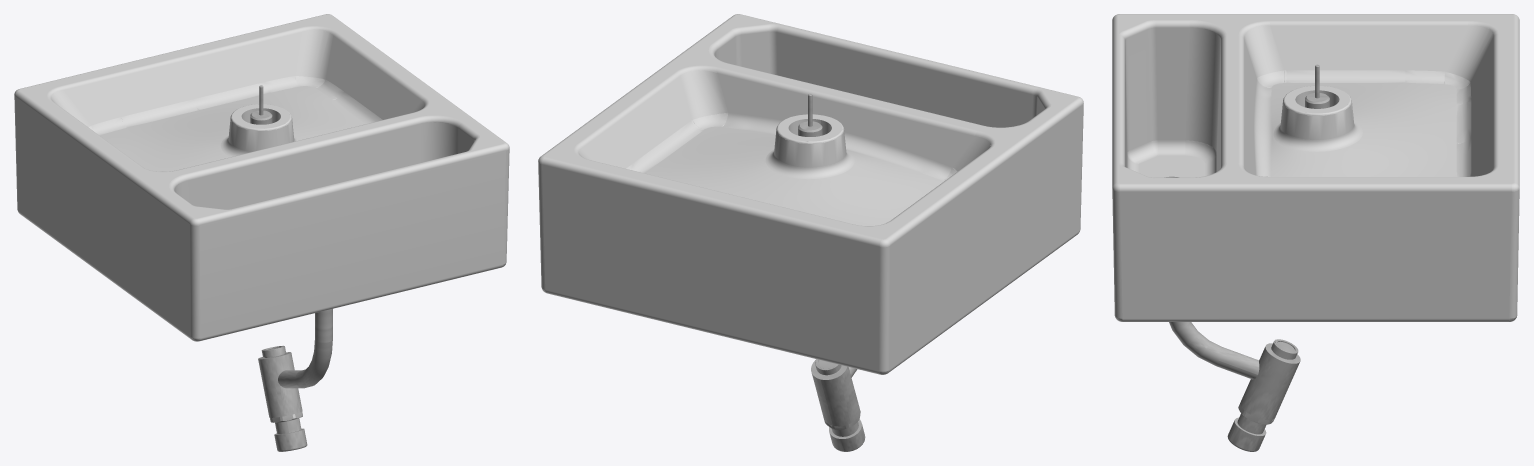
Rendered from PiaBanheiro.fbx.
3 views of the same model, side by side, from view 1: azimuth 30°, elevation 25°; view 2: azimuth 150°, elevation 25°; view 3: azimuth 270°, elevation 25° (orthographic). The views are drawn at different scales.
Visible parts, largest first — view 1: Component#357.001, Component#152.001; view 2: Component#357.001, Component#152.001; view 3: Component#357.001, Component#152.001, Component#318.001.
Boxes of the visible parts, box(x1,y1,x2,y2) form: Component#357.001: box(14, 14, 509, 341); Component#152.001: box(258, 309, 332, 451); Component#357.001: box(538, 14, 1083, 374); Component#152.001: box(811, 359, 865, 451); Component#357.001: box(1112, 14, 1519, 321); Component#152.001: box(1169, 322, 1300, 451); Component#318.001: box(1305, 64, 1329, 108).
Bounding box in the file's own units: 0.4202 × 0.4323 × 0.4152.
2 materials, 1 textured.
